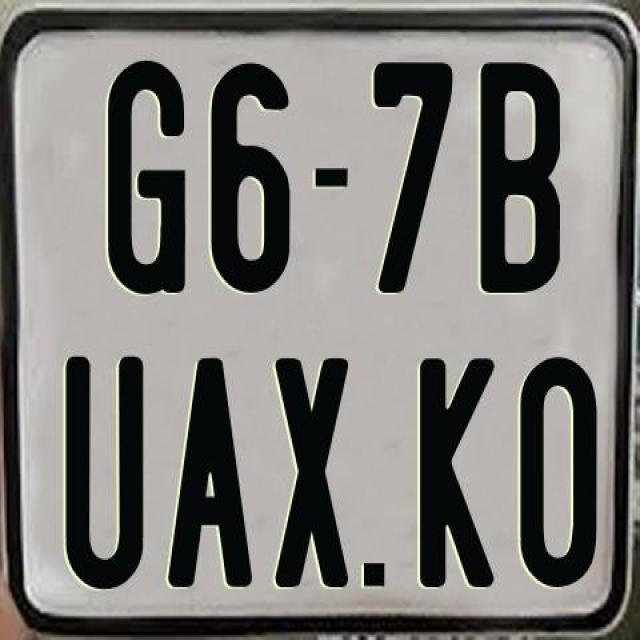0: (520, 352, 603, 590)
6: (209, 61, 291, 294)
7: (369, 58, 452, 288)
A: (165, 358, 255, 590)
B: (477, 61, 560, 301)
G: (105, 56, 188, 298)
K: (416, 355, 498, 592)
U: (64, 354, 143, 596)
X: (272, 355, 350, 586)
